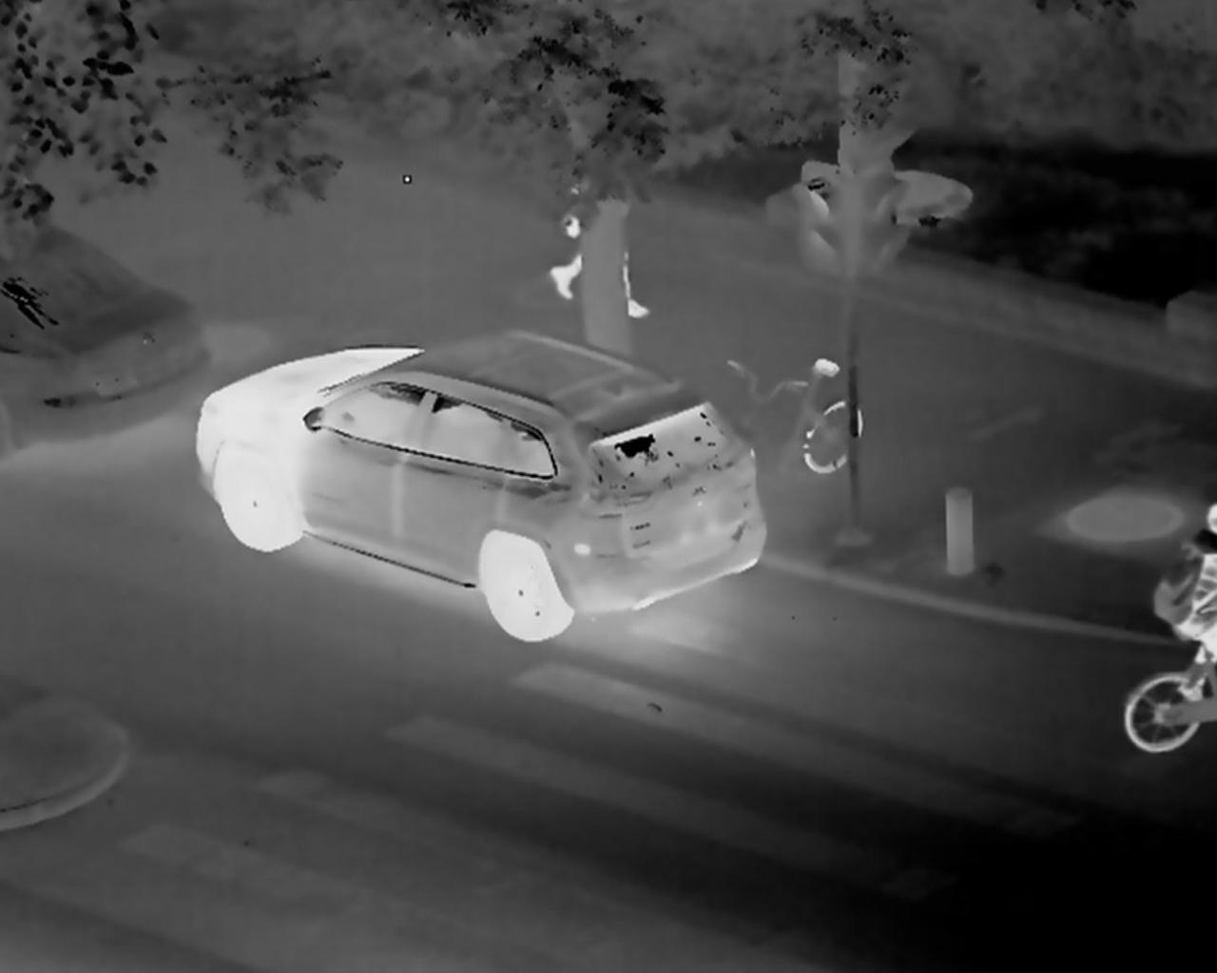person: (541, 117, 652, 322), (1149, 497, 1216, 705)
